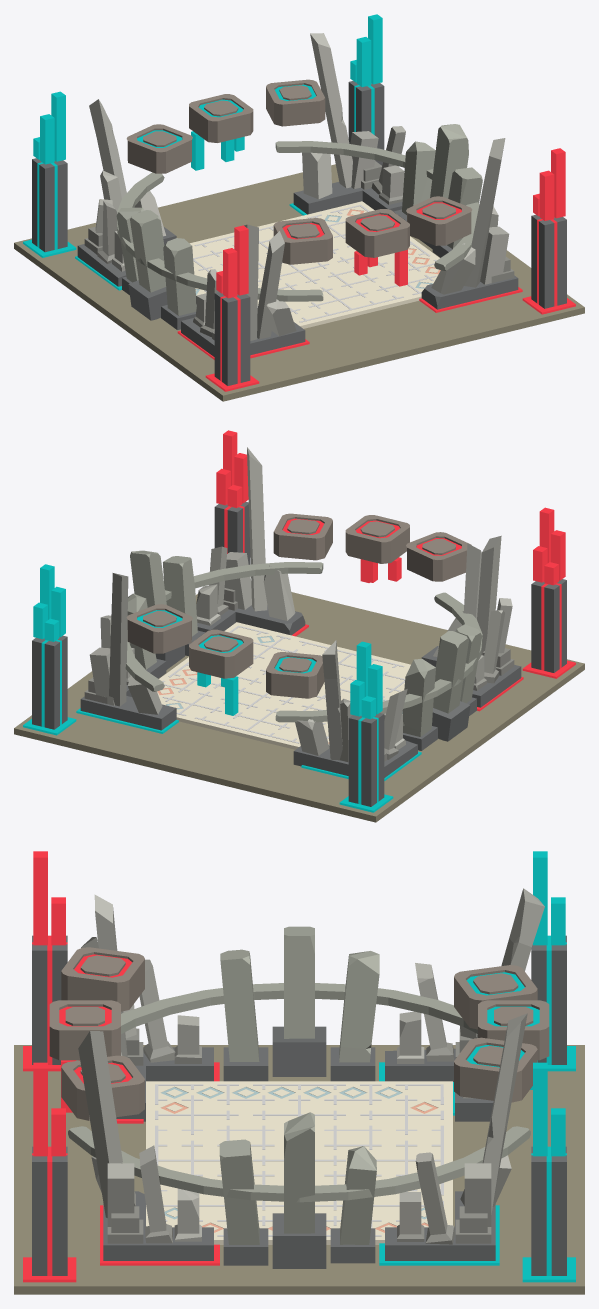
3 views of the same model, one above another, from view 1: azimuth 30°, elevation 25°; view 2: azimuth 150°, elevation 25°; view 3: azimuth 270°, elevation 25° (orthographic). The views are drawn at different scales.
Parts seen in each view (by area): view 1: Plane.038, Plane.114, Plane.039, Circle.032, Plane.151, Plane.157, Plane.089, Plane.169, Plane.040, Plane.145, Plane.100, Plane.130 (+36 smaller); view 2: Plane.038, Plane.114, Plane.039, Circle.032, Plane.157, Plane.151, Plane.163, Plane.130, Plane.145, Plane.040, Plane.100, Plane.099 (+37 smaller); view 3: Plane.038, Plane.114, Circle.032, Plane.039, Plane.071, Plane.099, Plane.106, Plane.089, Plane.163, Plane.115, Plane.040, Plane.112 (+47 smaller).
Boxes of the visible parts, x1,y1,x2,y2 form: Plane.038: (14, 164, 584, 401); Plane.114: (190, 201, 440, 328); Plane.039: (77, 182, 518, 356); Circle.032: (117, 141, 479, 301); Plane.151: (214, 292, 250, 385); Plane.157: (32, 158, 67, 252); Plane.089: (531, 215, 566, 308); Plane.169: (126, 124, 192, 173); Plane.040: (345, 209, 409, 257); Plane.145: (189, 94, 253, 142); Plane.100: (406, 196, 472, 245); Plane.130: (266, 79, 325, 126); Plane.038: (14, 592, 584, 822); Plane.114: (157, 622, 410, 749); Plane.039: (80, 605, 521, 777); Circle.032: (125, 562, 482, 722); Plane.157: (348, 713, 384, 806); Plane.151: (531, 579, 566, 672); Plane.163: (32, 635, 67, 729); Plane.130: (126, 604, 192, 653); Plane.145: (189, 629, 253, 678); Plane.040: (345, 515, 409, 563); Plane.100: (273, 513, 332, 560); Plane.099: (406, 532, 471, 581); Plane.038: (14, 1045, 584, 1294); Plane.114: (146, 1081, 452, 1244); Circle.032: (68, 983, 530, 1202); Plane.039: (103, 1047, 495, 1260); Plane.071: (155, 1084, 443, 1236); Plane.099: (61, 947, 144, 1011); Plane.106: (78, 1031, 122, 1217); Plane.089: (32, 1146, 67, 1275); Plane.163: (531, 1146, 566, 1275); Plane.115: (339, 951, 379, 1062); Plane.040: (49, 1000, 120, 1060); Plane.112: (284, 1112, 314, 1233).
Size of what is drawn, in the model's own units: 32 by 14.75 by 32.
Materials: 8 (2 with a texture image).
